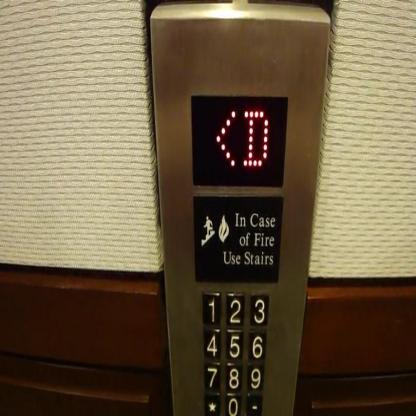-: (245, 393, 264, 415)
0: (223, 391, 244, 415)
1: (200, 290, 222, 328)
2: (224, 291, 245, 329)
3: (247, 291, 270, 329)
4: (202, 326, 222, 362)
5: (223, 328, 245, 366)
6: (247, 329, 267, 365)
7: (202, 362, 220, 395)
8: (223, 362, 244, 392)
9: (246, 364, 265, 393)
led: (188, 90, 289, 188)
s: (203, 390, 222, 415)
